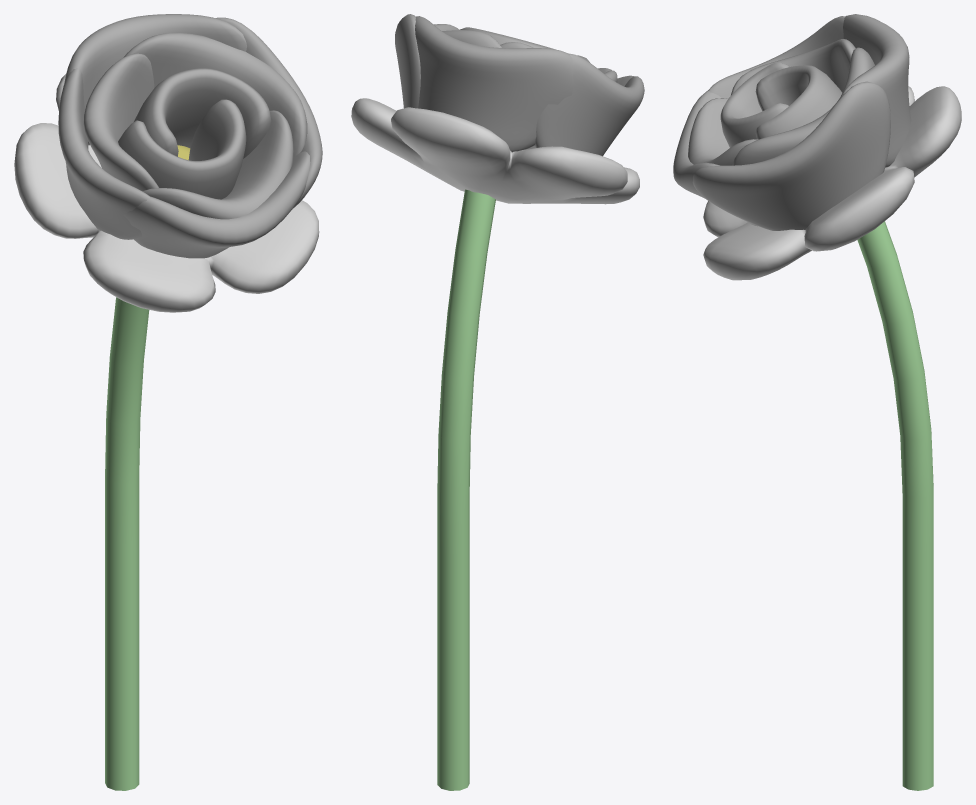
Rendered from Rose.fbx.
The picture shows the model from 3 angles, left to right: view 1: azimuth 30°, elevation 25°; view 2: azimuth 150°, elevation 25°; view 3: azimuth 270°, elevation 25°; orthographic projection. The views are drawn at different scales.
Parts seen in each view (by area): view 1: pCylinder18; view 2: pCylinder18; view 3: pCylinder18.
Part boxes in pixels (x1,y1,x2,y2): pCylinder18: [14, 14, 322, 790]; pCylinder18: [351, 14, 644, 790]; pCylinder18: [673, 14, 961, 790].
Bounding box in the file's own units: 35.62 × 95.7 × 33.94.
